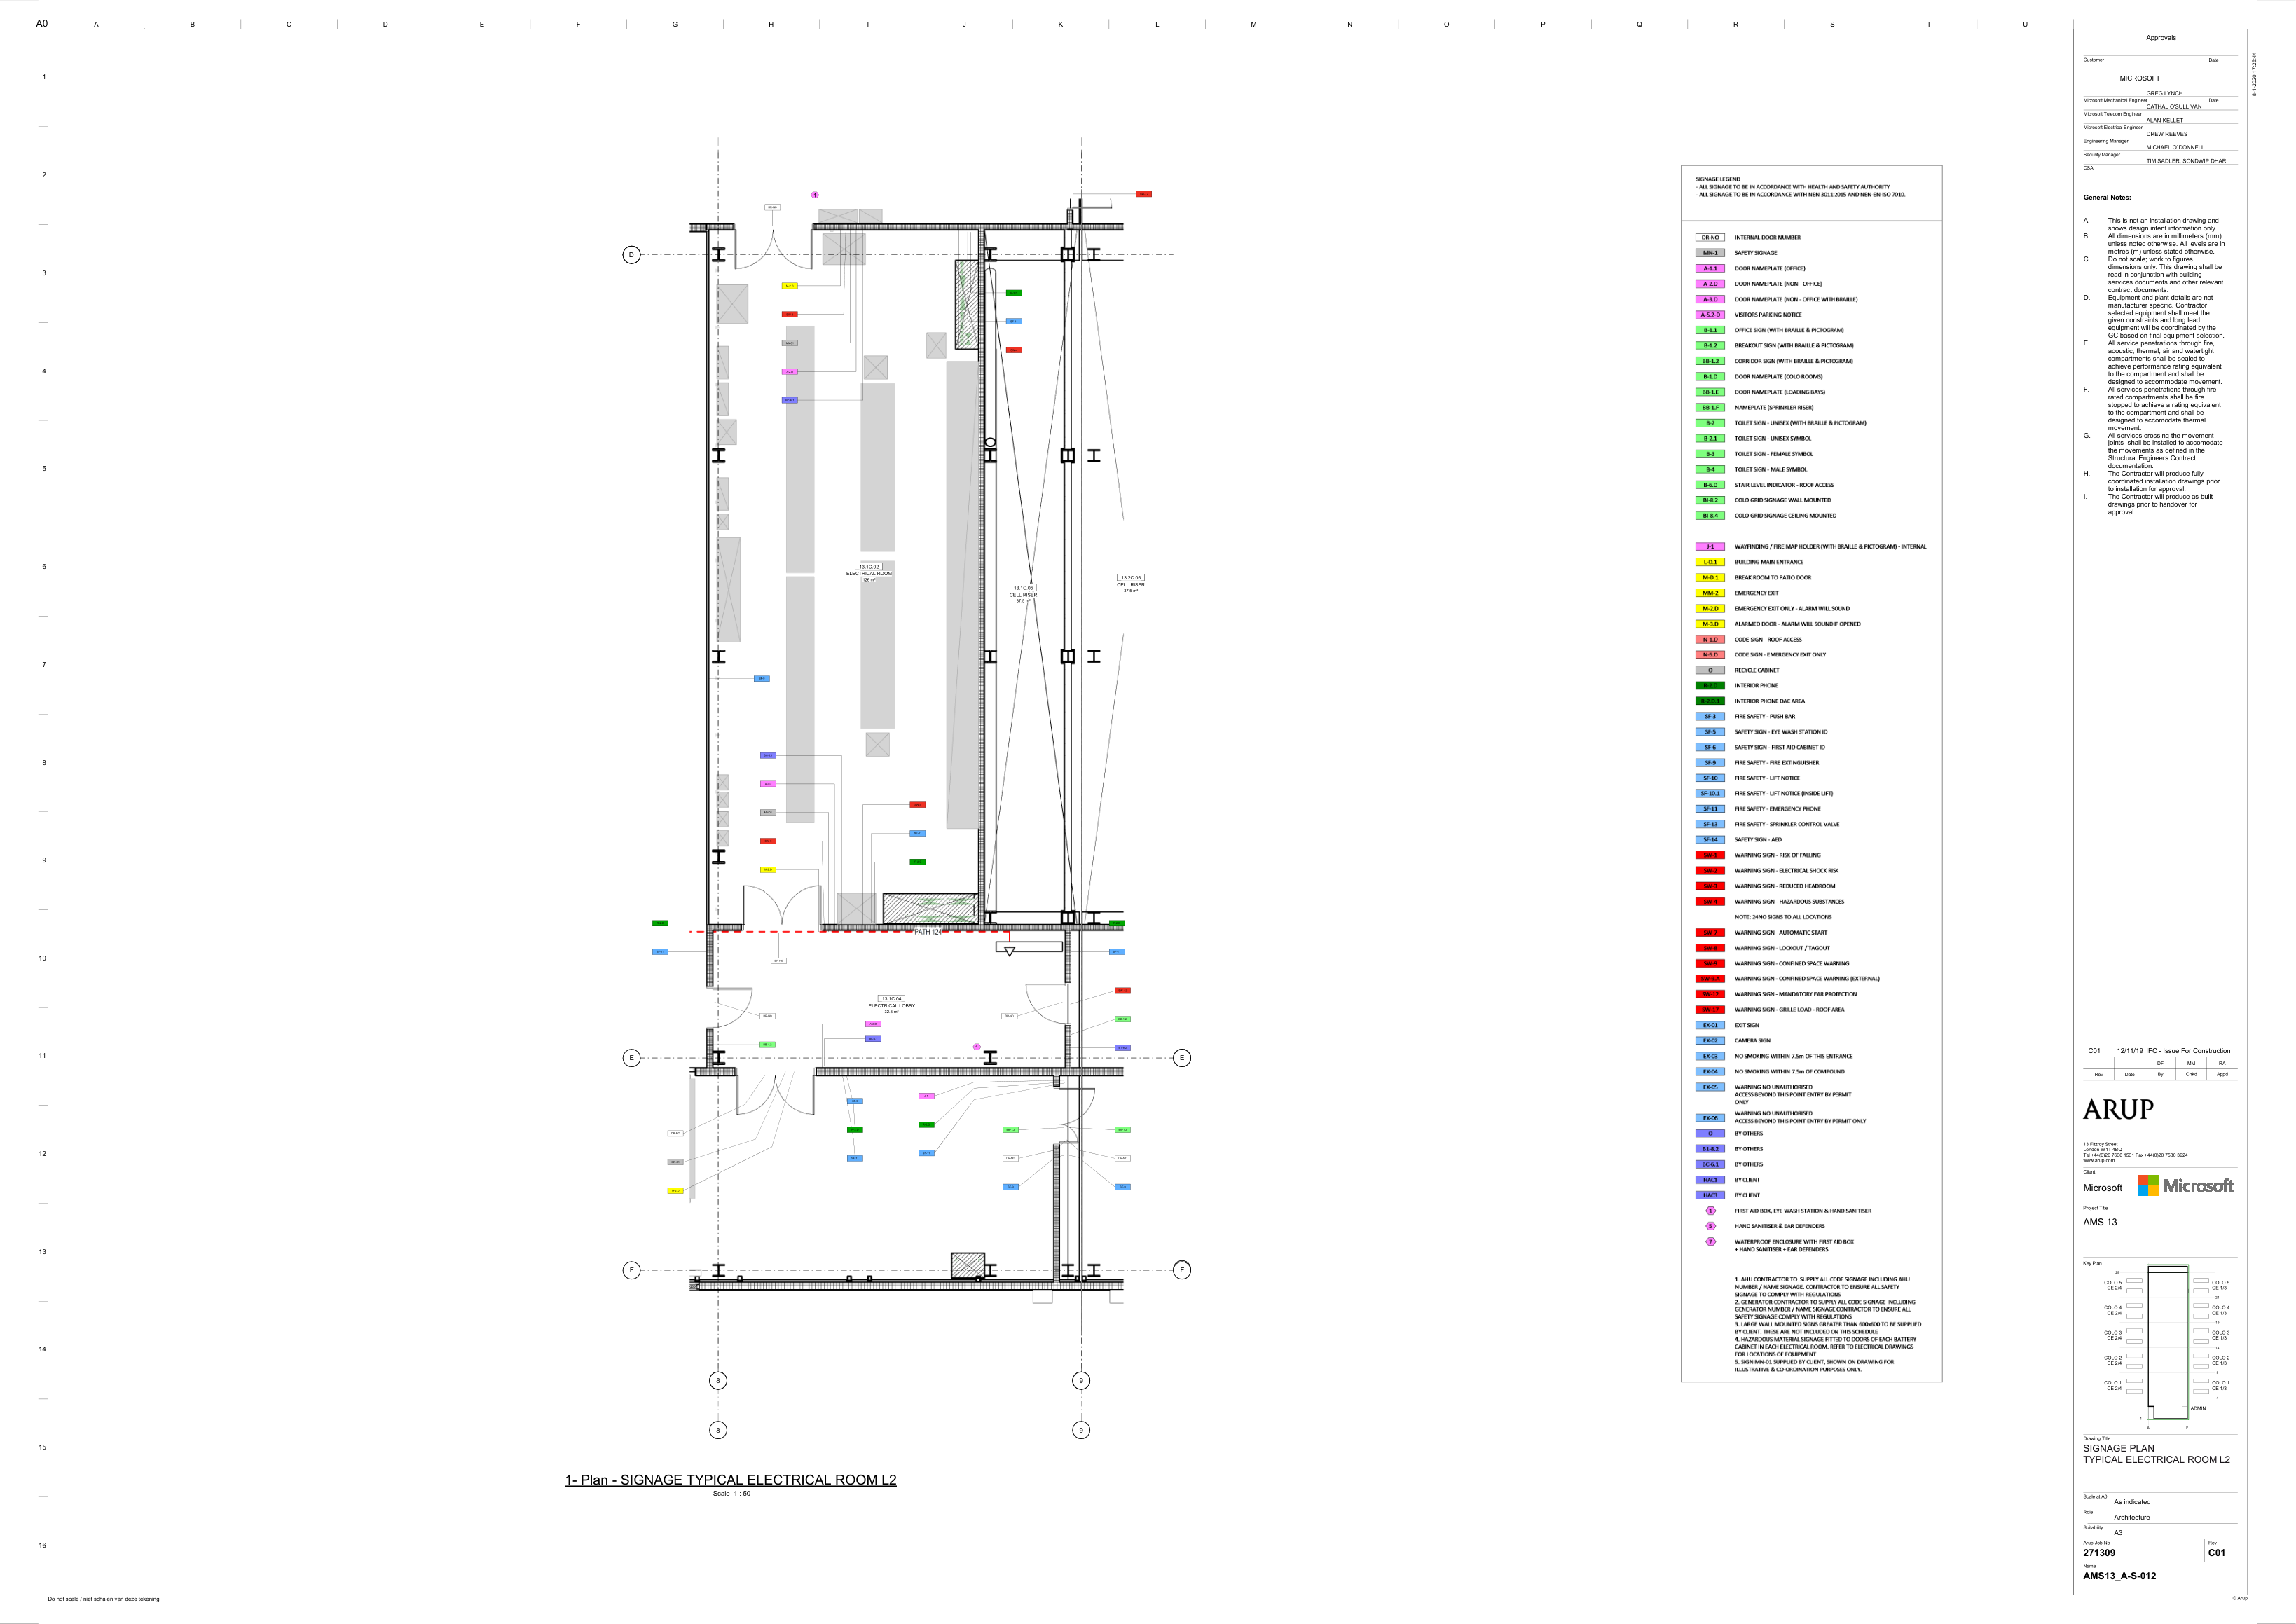Legend: (1681, 165, 1941, 1382)
